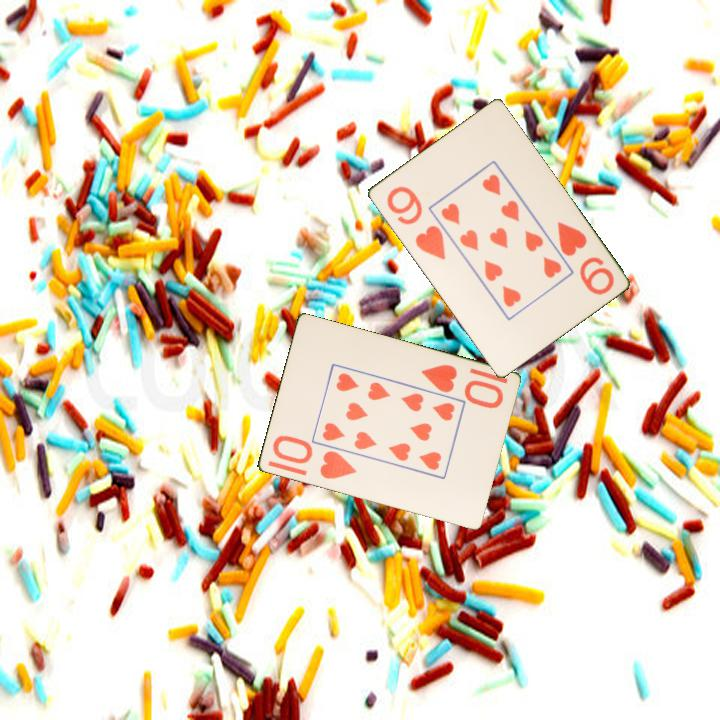10h: (268, 433, 359, 482), (417, 361, 506, 410)
9h: (382, 182, 448, 263), (553, 218, 617, 298)
